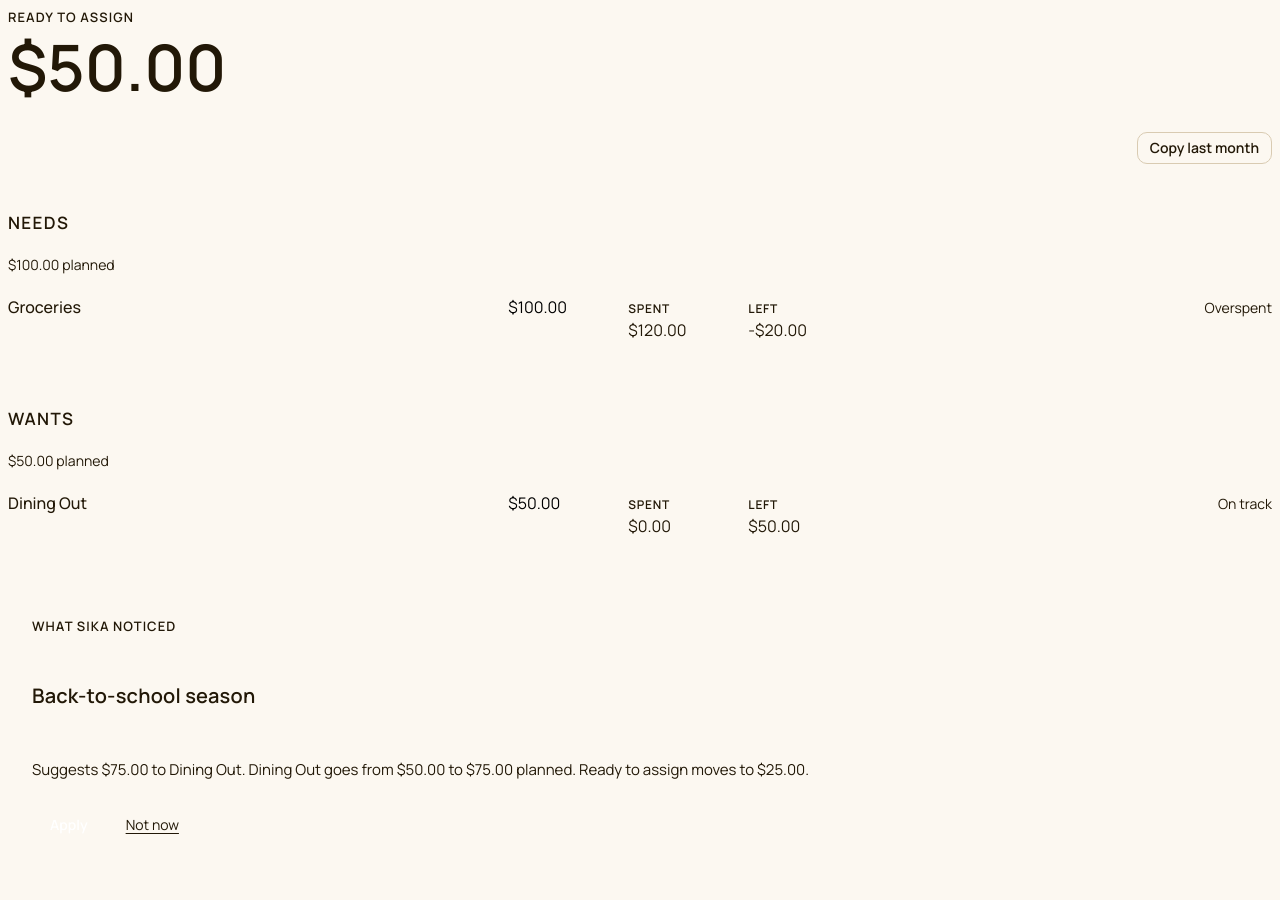
Scenario: PlannerView — Sika recommendation cards › dismisses a proposal quietly without touching the ledger
The width and height of the screenshot is (1280, 900).
Click the button "Not now".
click(152, 825)  # box 118,812 -> 187,838
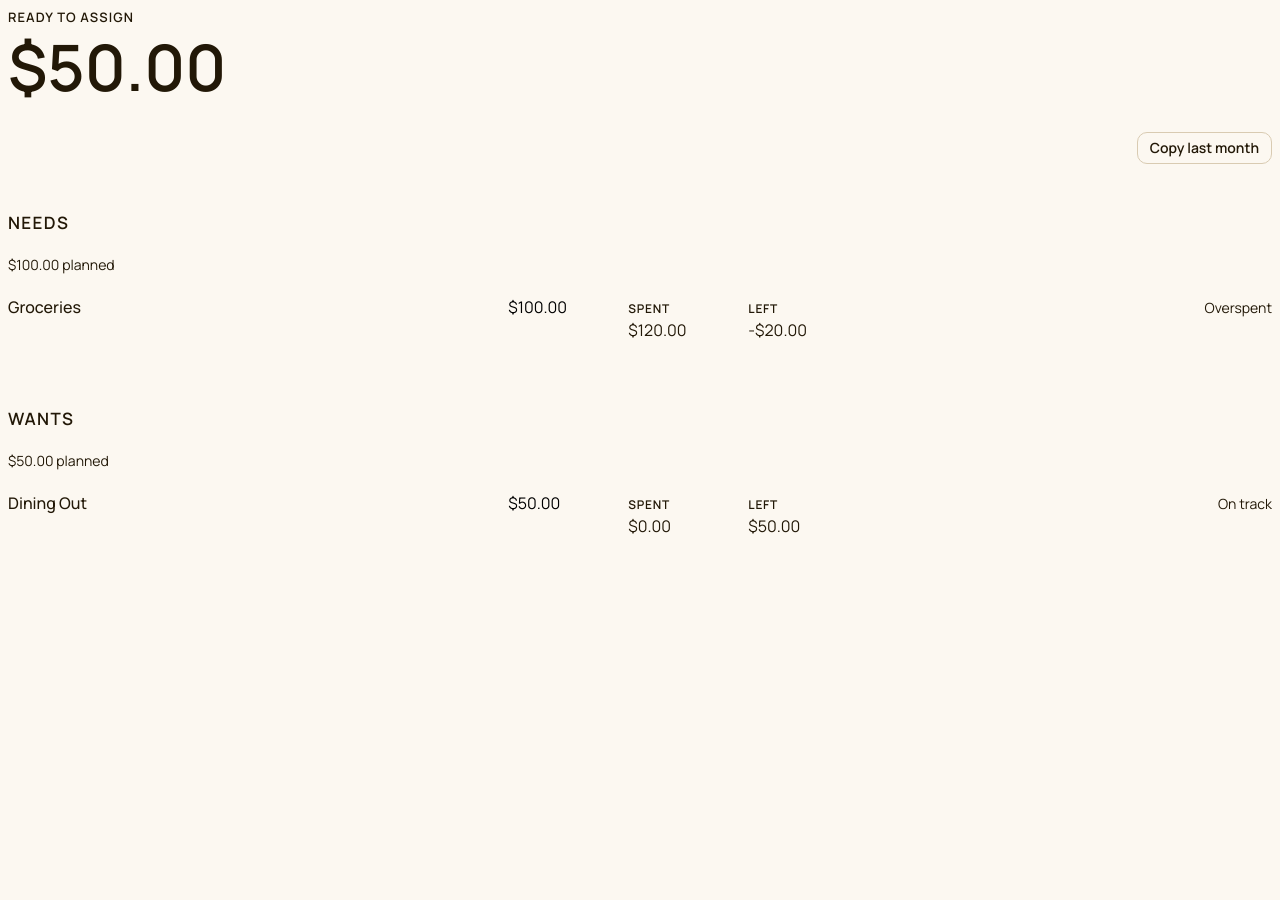
Expected: the text with test id "ready-to-assign" reads "$50.00", 8,23 -> 226,110
Result: the element with test id "recommendations" is gone
